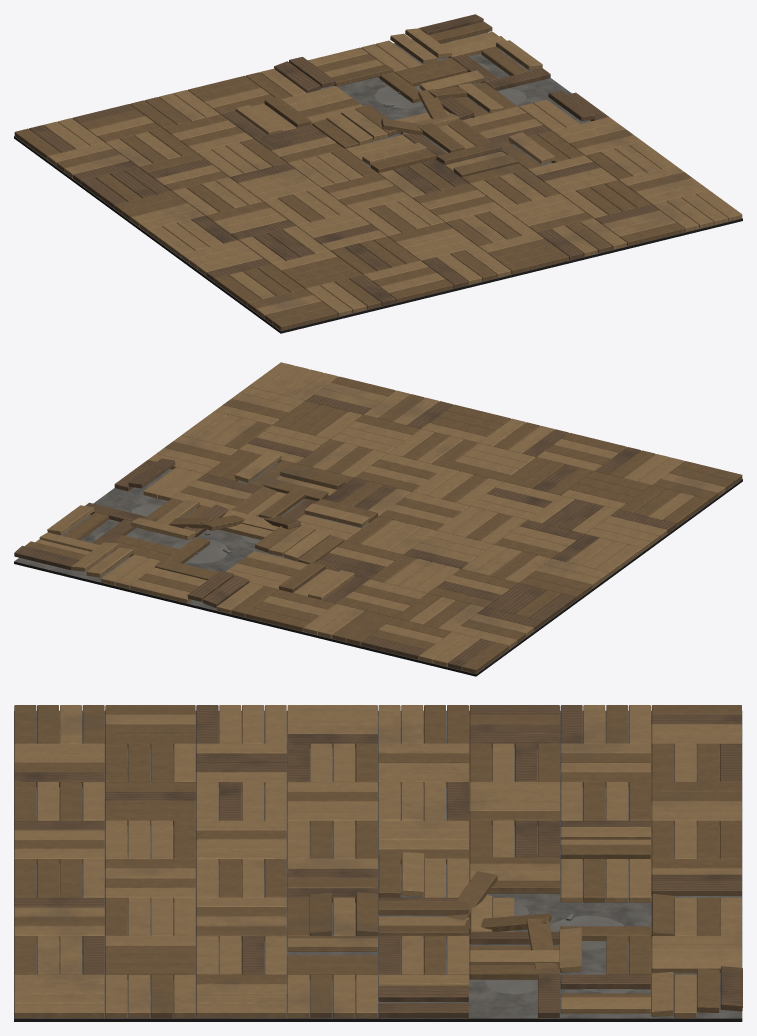
Rendered from SM_Floor_Parquet_2m.fbx.
3 views of the same model, one above another, from view 1: azimuth 30°, elevation 25°; view 2: azimuth 150°, elevation 25°; view 3: azimuth 270°, elevation 25° (orthographic). The views are drawn at different scales.
Parts seen in each view (by area): view 1: SM_Floor_Parquet_2m; view 2: SM_Floor_Parquet_2m; view 3: SM_Floor_Parquet_2m.
Part boxes in pixels (x1,y1,x2,y2): SM_Floor_Parquet_2m: (14, 14, 742, 333); SM_Floor_Parquet_2m: (14, 362, 742, 676); SM_Floor_Parquet_2m: (14, 705, 742, 1021).
Bounding box in the file's own units: 2 × 0.0747 × 2.
1 material, 1 textured.
